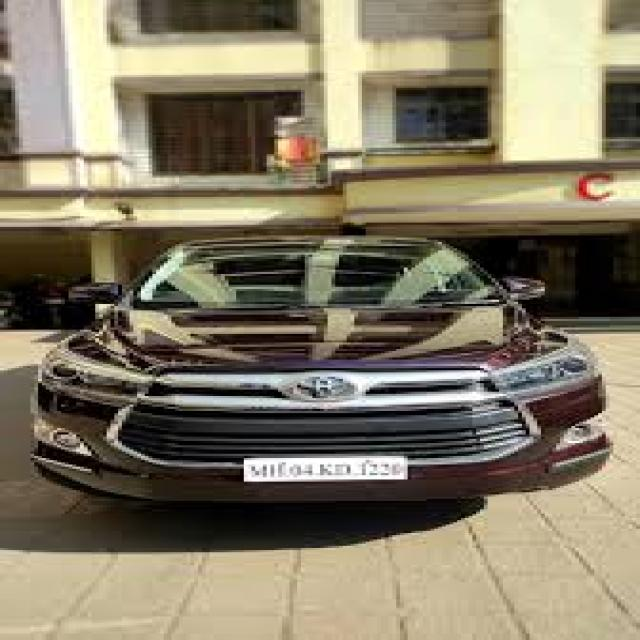light_vehicle: (28, 236, 615, 504)
